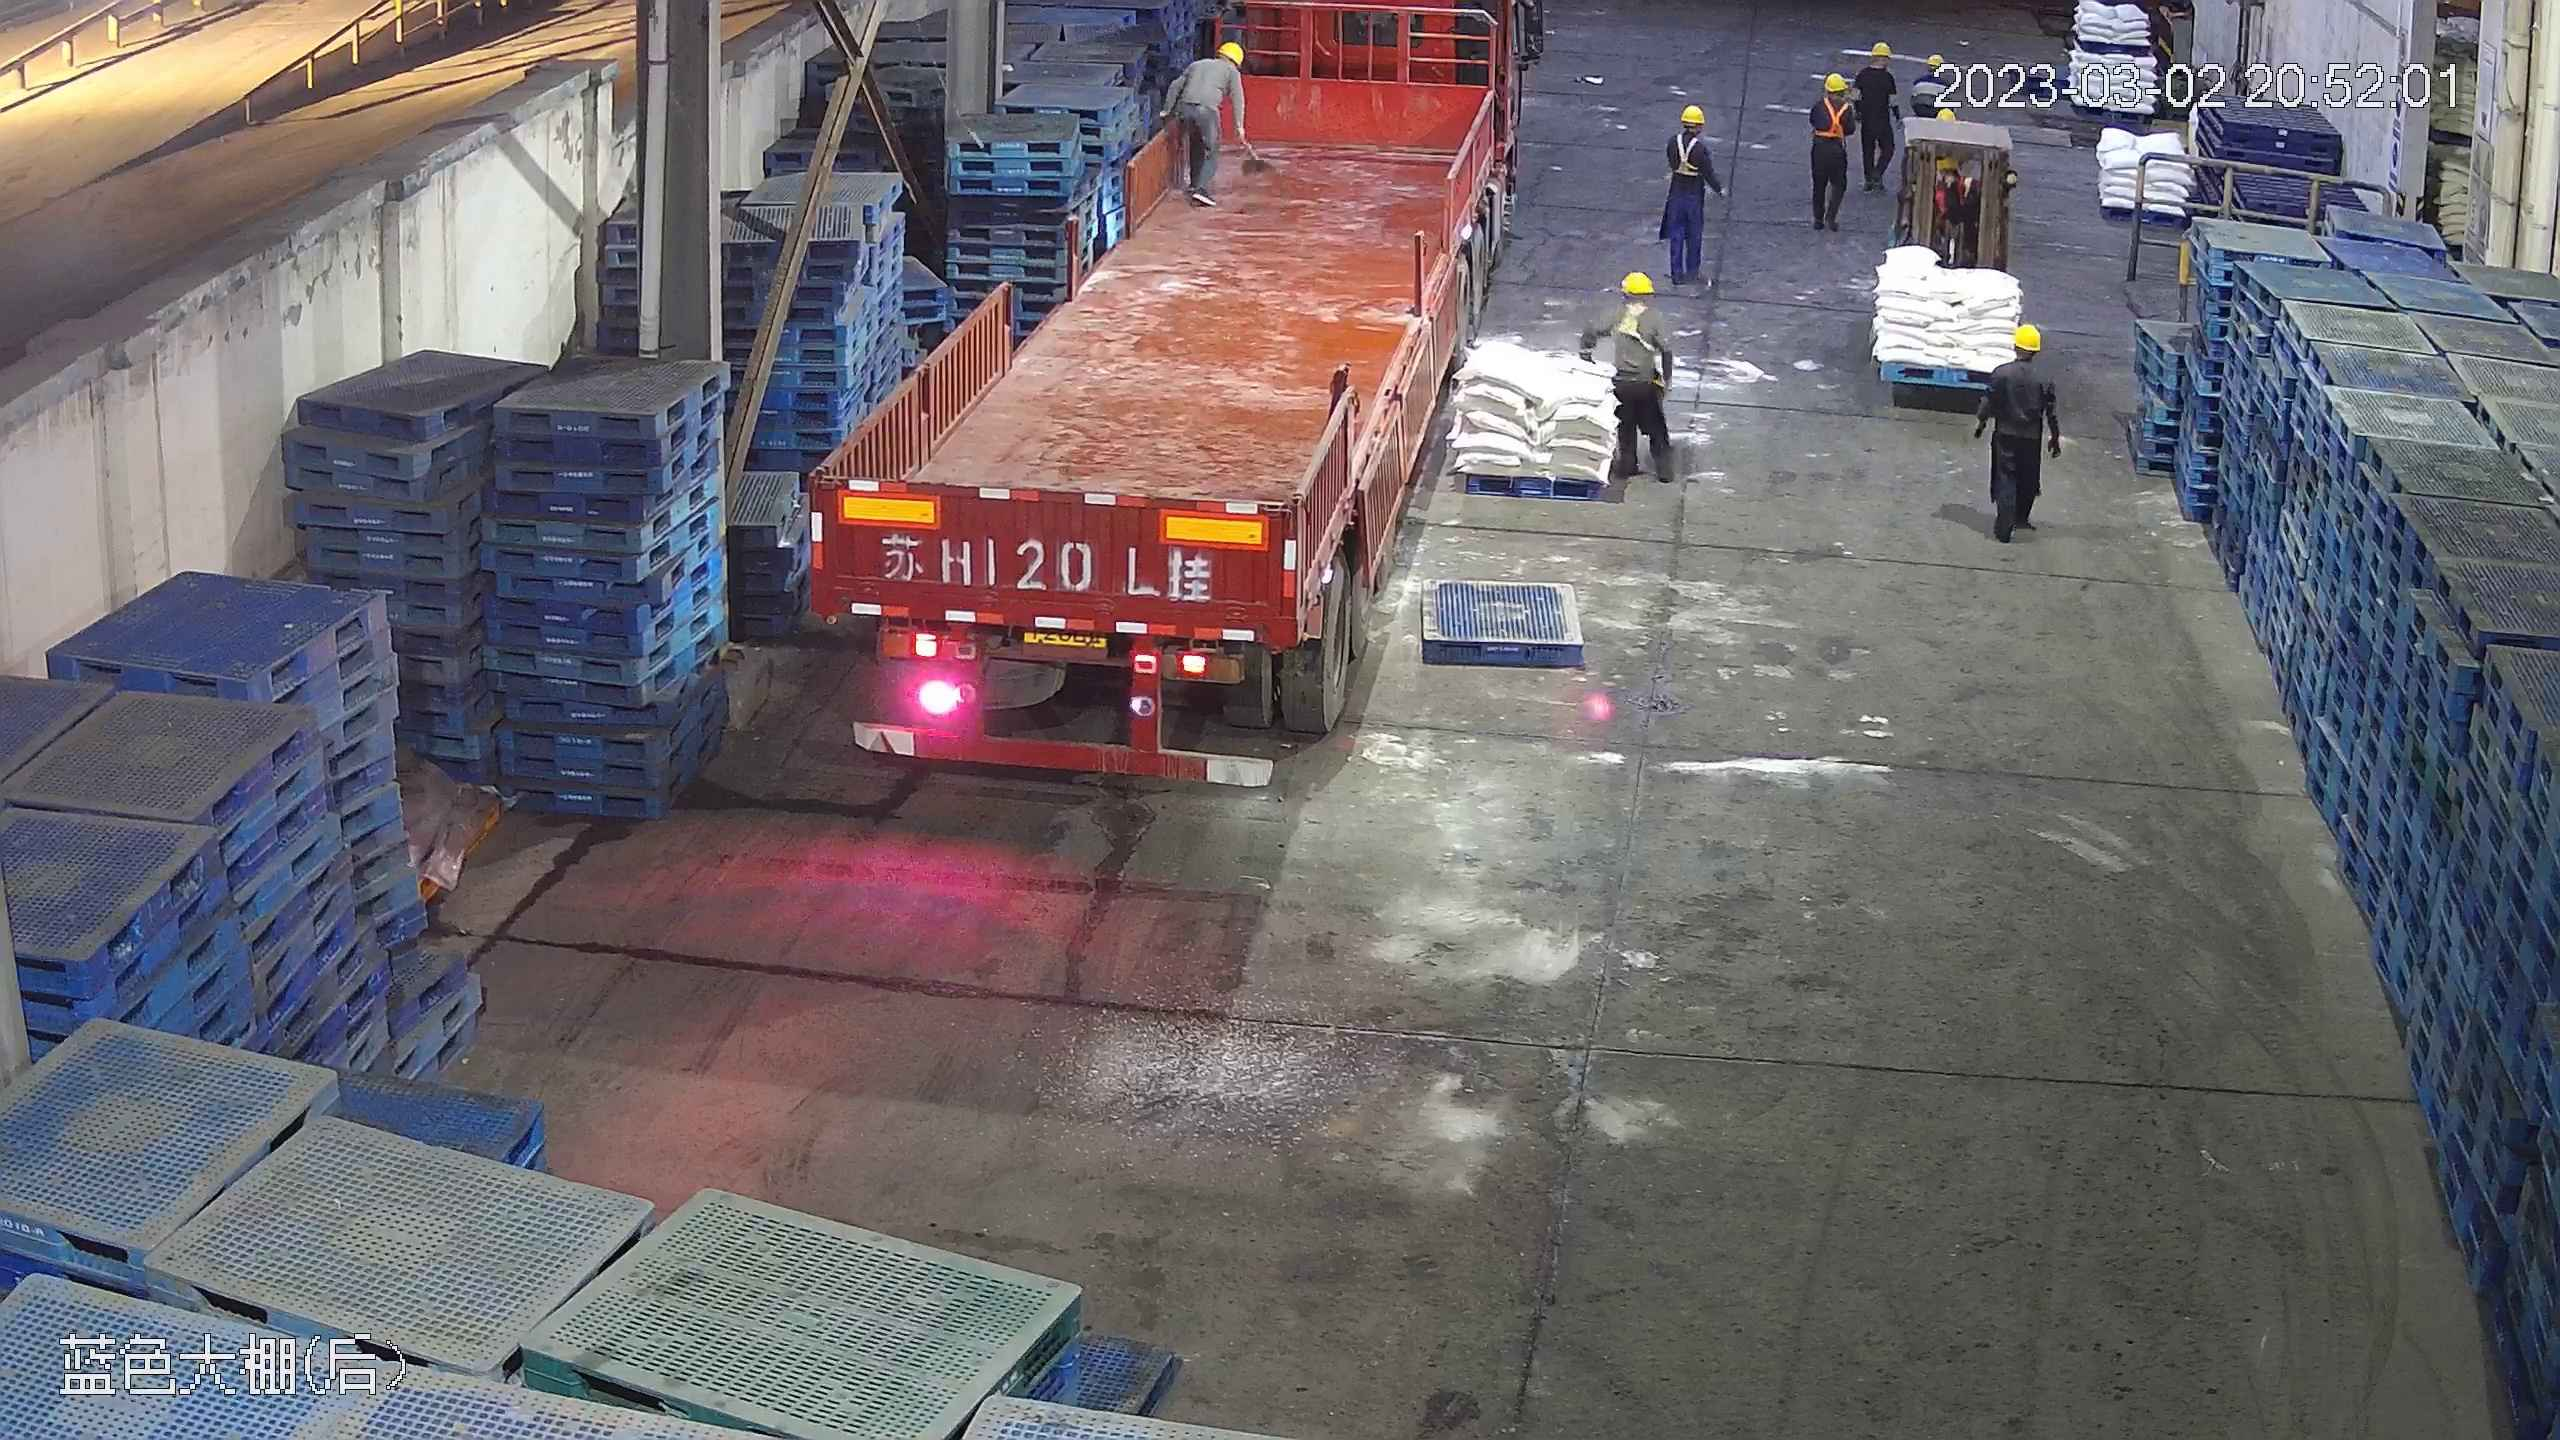belt: (1618, 303, 1658, 354), (1666, 131, 1707, 179), (1814, 96, 1847, 140)
head: (1985, 322, 2059, 394), (1607, 271, 1667, 338), (1192, 39, 1248, 89), (1663, 103, 1715, 160), (1810, 72, 1854, 119), (1861, 44, 1900, 87), (1912, 52, 1949, 98), (1927, 158, 1964, 202)
helmet: (1819, 68, 1849, 99), (2010, 322, 2043, 349), (1619, 269, 1653, 293), (1218, 39, 1247, 65), (1676, 103, 1707, 127), (1936, 157, 1961, 174), (1870, 41, 1893, 58), (1936, 106, 1956, 122)
people: (1588, 268, 1684, 496), (1978, 320, 2065, 544), (1166, 31, 1247, 200), (1653, 102, 1721, 290), (1799, 73, 1858, 230), (1858, 52, 1905, 195)
truck: (802, 3, 1525, 783)
